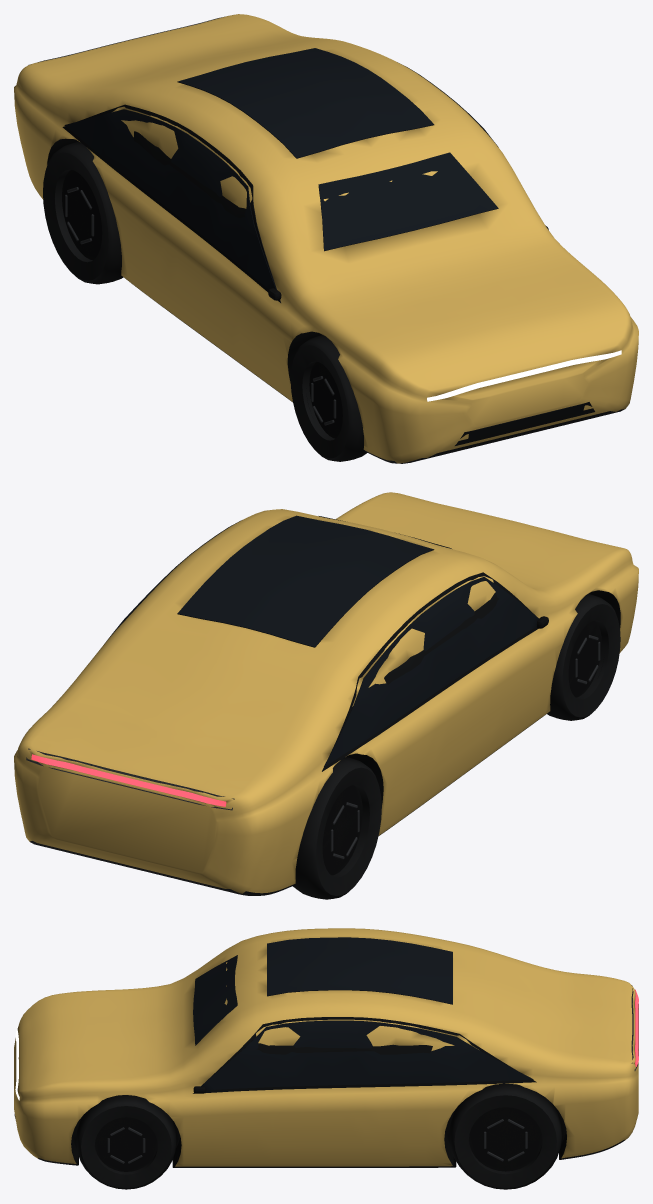
File: cab.glb
The picture shows the model from 3 angles, top to bottom: view 1: azimuth 30°, elevation 25°; view 2: azimuth 150°, elevation 25°; view 3: azimuth 270°, elevation 25°; orthographic projection. The views are drawn at different scales.
Parts seen in each view (by area): view 1: LOD0; view 2: LOD0; view 3: LOD0.
Part boxes in pixels (x1,y1,x2,y2): LOD0: [14, 14, 638, 463]; LOD0: [14, 492, 638, 899]; LOD0: [14, 928, 638, 1189].
Size of what is drawn, in the model's own units: 1.76 by 1.41 by 4.45.
